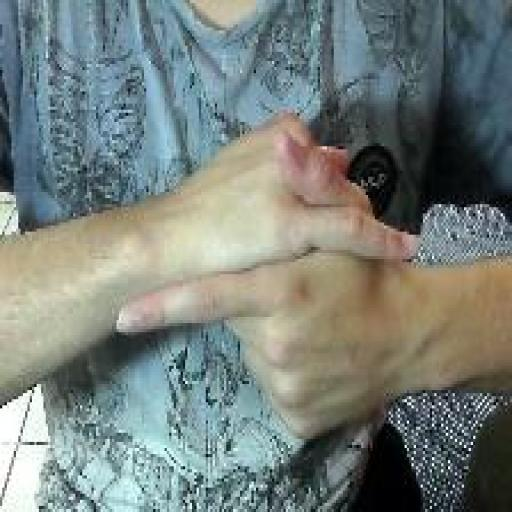U -hare-: (110, 105, 427, 450)
